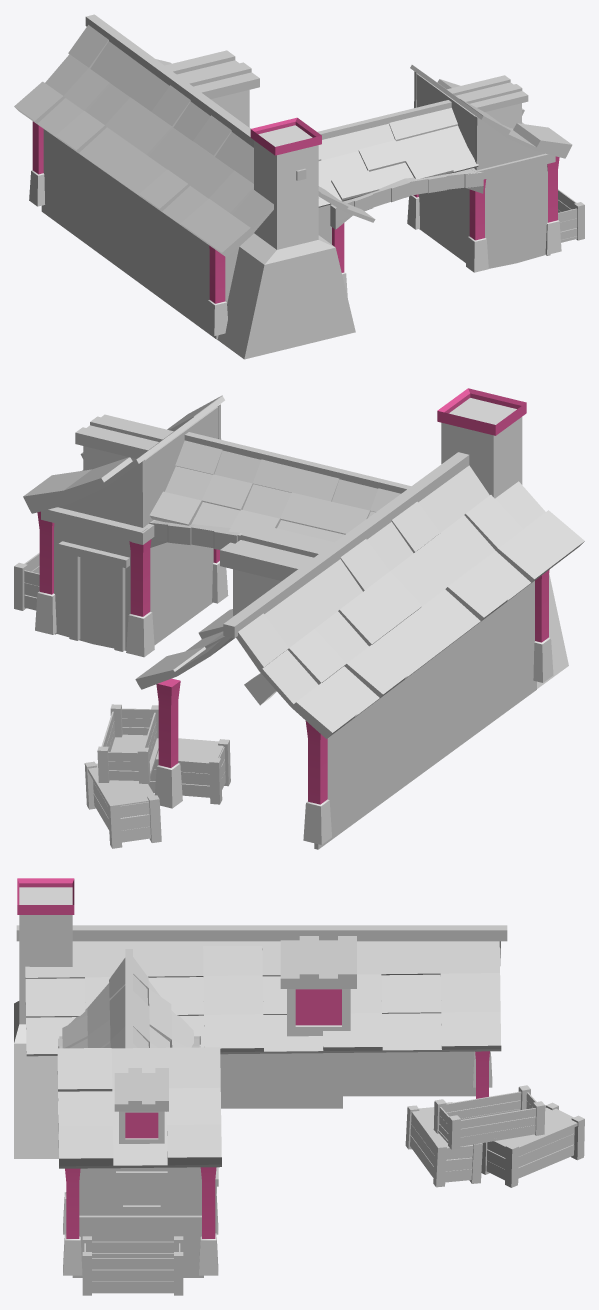
File: blacksmiths.fbx
3 views of the same model, one above another, from view 1: azimuth 30°, elevation 25°; view 2: azimuth 150°, elevation 25°; view 3: azimuth 270°, elevation 25° (orthographic). The views are drawn at different scales.
Parts seen in each view (by area): view 1: Cube.017, Cube.036, Cube.011, Cube.028, Cube.012, Cube.040, Cube.010, Cube.018, Cube.006, Cube.030, Cube.015, Cube.002 (+6 smaller); view 2: Cube.017, Cube.011, Cube.028, Cube.013, Cube.036, Cube.006, Cube.018, Cube.010, Cube.040, Cube.064, Cube.070, Cube.015 (+11 smaller); view 3: Cube.017, Cube.015, Cube.011, Cube.036, Cube.018, Cube.009, Cube.028, Cube.040, Cube.038, Cube.070, Cube.064, Cube.056 (+7 smaller).
Boxes of the visible parts, bbox=[...] form: Cube.017: bbox=[14, 25, 375, 257]; Cube.036: bbox=[217, 117, 355, 359]; Cube.011: bbox=[41, 129, 218, 339]; Cube.028: bbox=[318, 108, 478, 207]; Cube.012: bbox=[474, 116, 547, 268]; Cube.040: bbox=[165, 50, 528, 111]; Cube.010: bbox=[416, 73, 477, 262]; Cube.018: bbox=[85, 14, 451, 180]; Cube.006: bbox=[29, 121, 347, 335]; Cube.030: bbox=[330, 168, 483, 229]; Cube.015: bbox=[410, 65, 572, 158]; Cube.002: bbox=[466, 179, 488, 272]; Cube.017: bbox=[135, 465, 584, 738]; Cube.011: bbox=[314, 581, 536, 849]; Cube.028: bbox=[149, 440, 400, 542]; Cube.013: bbox=[54, 460, 145, 650]; Cube.036: bbox=[437, 388, 568, 688]; Cube.006: bbox=[154, 569, 553, 844]; Cube.018: bbox=[184, 432, 469, 638]; Cube.010: bbox=[145, 405, 218, 644]; Cube.040: bbox=[75, 414, 334, 580]; Cube.064: bbox=[84, 761, 161, 848]; Cube.070: bbox=[97, 704, 158, 783]; Cube.015: bbox=[23, 395, 224, 513]; Cube.017: bbox=[25, 941, 501, 1056]; Cube.015: bbox=[57, 1047, 221, 1168]; Cube.011: bbox=[220, 1051, 475, 1108]; Cube.036: bbox=[14, 878, 74, 1158]; Cube.018: bbox=[16, 925, 507, 1048]; Cube.009: bbox=[72, 1167, 203, 1277]; Cube.028: bbox=[62, 957, 193, 1048]; Cube.040: bbox=[114, 936, 356, 1111]; Cube.038: bbox=[82, 1236, 183, 1295]; Cube.070: bbox=[433, 1085, 545, 1149]; Cube.064: bbox=[481, 1102, 584, 1187]; Cube.056: bbox=[405, 1102, 482, 1187].
Bounding box in the file's own units: 2296 × 1178 × 2505.
